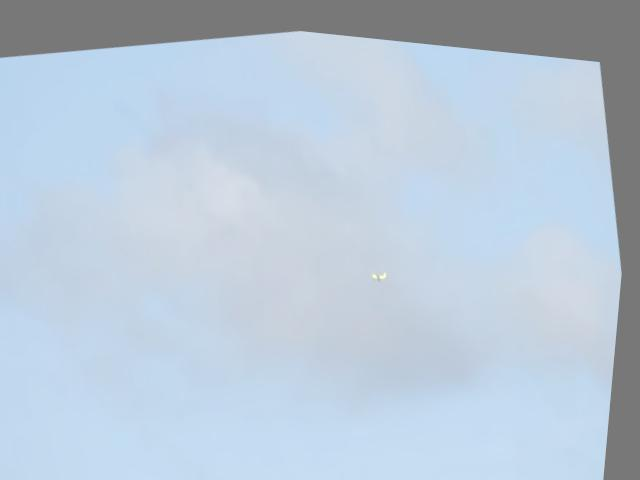plane: (375, 261, 392, 274)
